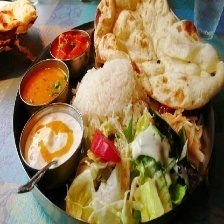dal: (18, 59, 70, 107)
